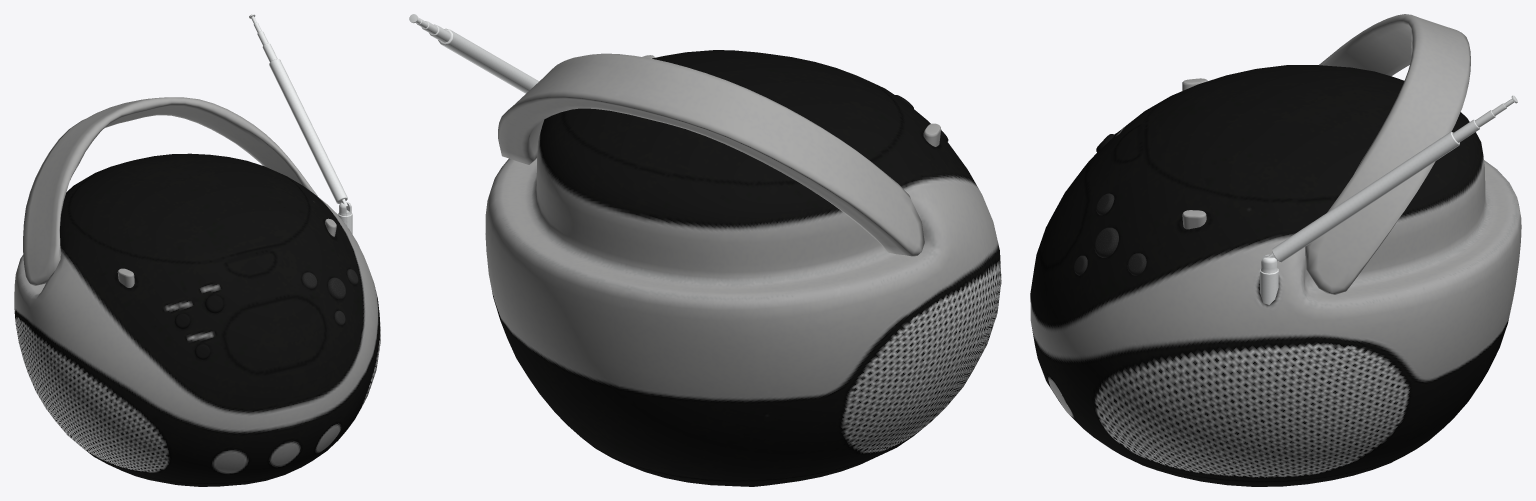
Rendered from khronos-boombox.glb.
3 views of the same model, side by side, from view 1: azimuth 30°, elevation 25°; view 2: azimuth 150°, elevation 25°; view 3: azimuth 270°, elevation 25° (orthographic). The views are drawn at different scales.
Visible parts, largest first — view 1: BoomBox; view 2: BoomBox; view 3: BoomBox.
Boxes of the visible parts, x1=… form: BoomBox: x1=14, y1=14, x2=380, y2=486; BoomBox: x1=409, y1=14, x2=1001, y2=486; BoomBox: x1=1030, y1=14, x2=1521, y2=486.
Bounding box in the file's own units: 2.36 × 2.33 × 2.4.
Materials: 1 (1 with a texture image).
